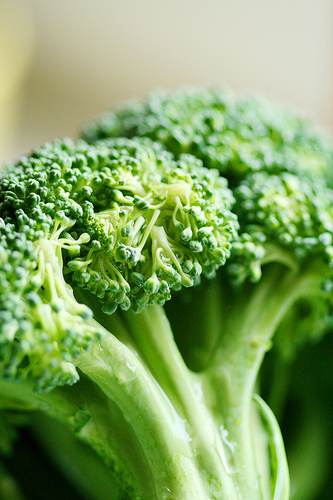broccoli: (1, 81, 331, 497)
